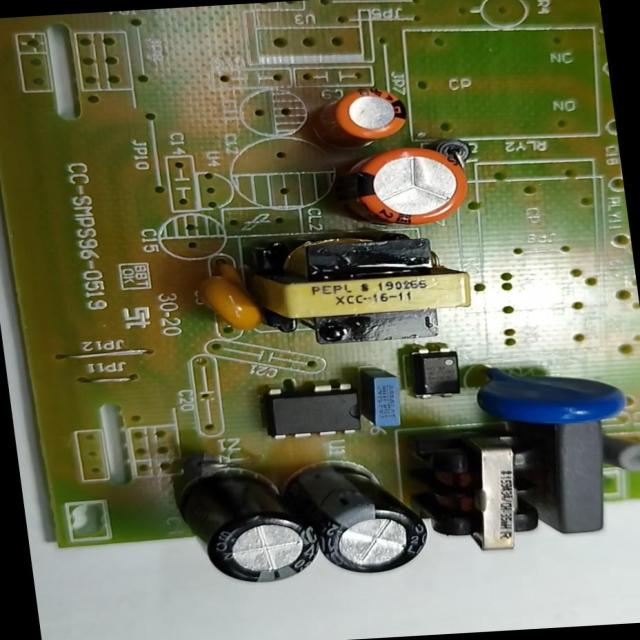Cap1: (318, 136, 483, 232)
Cap2: (305, 79, 418, 149)
Cap3: (284, 454, 444, 578)
Cap4: (172, 456, 325, 587)
MOSFET: (239, 372, 367, 436)
Mov: (466, 358, 640, 438)
Resistor: (589, 424, 639, 479)
Transformer: (223, 225, 497, 355), (396, 419, 554, 562)
